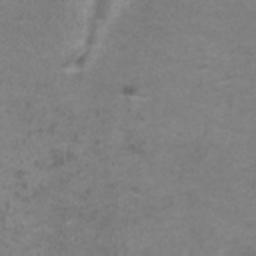Finishing roll printing: (75, 0, 110, 69), (122, 86, 136, 95)
